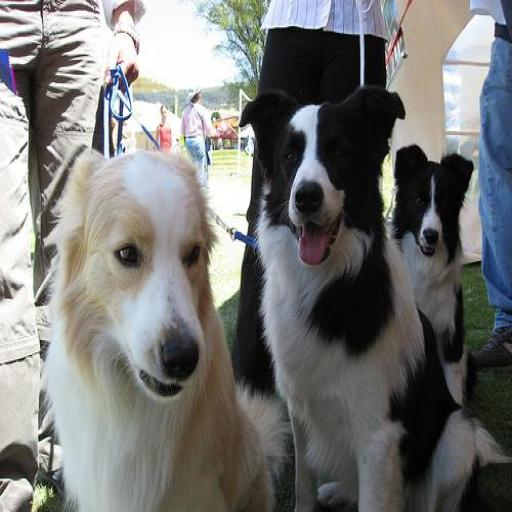dog_face: (62, 148, 220, 416), (246, 84, 401, 274)
